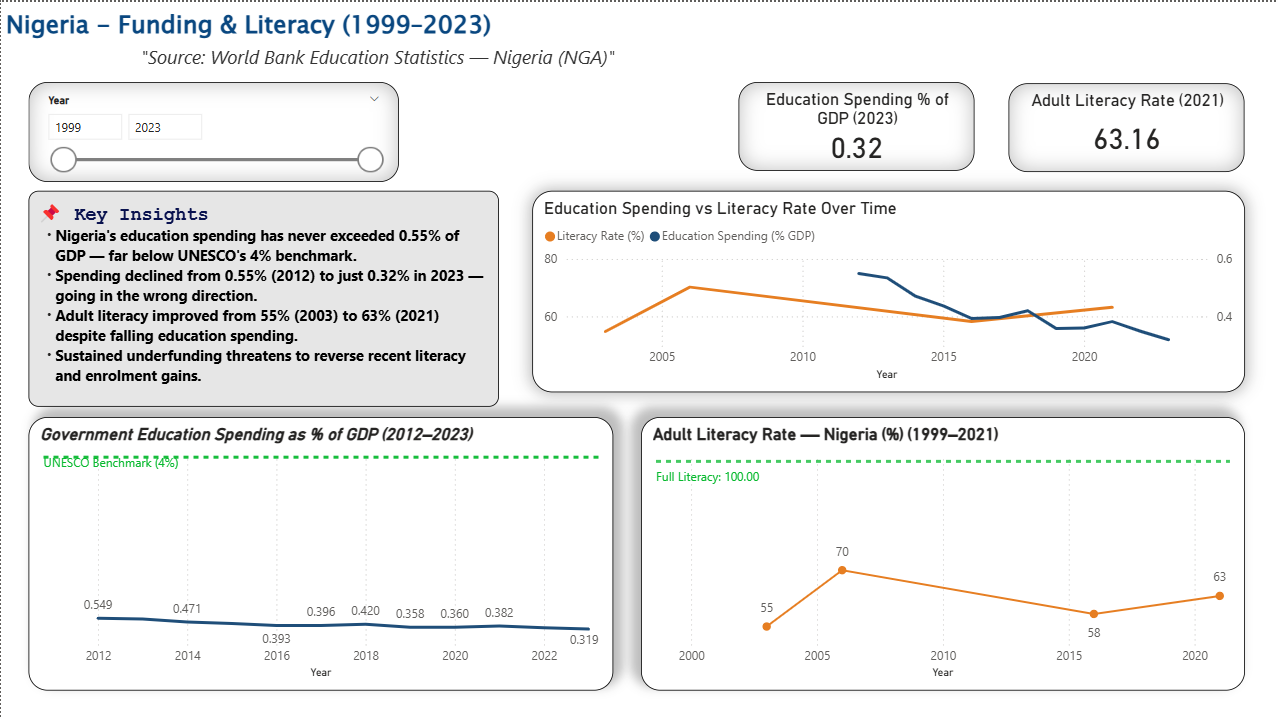

The page's visual inventory and layout, read from the dashboard file:
{"tool":"powerbi","page":{"name":"Funding & Literacy","canvas":[1280,720],"ordinal":4},"visuals":[{"type":"textbox","box":[0,0,618.8,79.5],"z":0},{"type":"card","title":"Adult Literacy Rate (2021)","fields":{"Values":["PowerBI_Data.Latest Literacy Rate"]},"box":[1007.5,81.2,236.2,88.8],"z":1000},{"type":"card","title":"Education Spending % of GDP (2023)","fields":{"Values":["PowerBI_Data.Latest Education Spending"]},"box":[737.5,80,236.2,88.8],"z":2000},{"type":"lineChart","title":"Government Education Spending as % of GDP (2012–2023)","fields":{"Category":["PowerBI_Data.Year"],"Y":["Sum(PowerBI_Data.Education Spending (% GDP))"]},"box":[27.5,415,585,273.8],"z":3000},{"type":"lineChart","title":"Adult Literacy Rate — Nigeria (%) (1999–2021)","fields":{"Category":["PowerBI_Data.Year"],"Y":["Sum(PowerBI_Data.Literacy Rate (%))"]},"box":[640,415,603.8,273.8],"z":4000},{"type":"lineChart","title":"Education Spending vs Literacy Rate Over Time","fields":{"Category":["PowerBI_Data.Year"],"Y":["Sum(PowerBI_Data.Literacy Rate (%))"],"Y2":["Sum(PowerBI_Data.Education Spending (% GDP))"]},"box":[531.2,188.8,712.5,201.2],"z":5000},{"type":"slicer","fields":{"Values":["PowerBI_Data.Year"]},"box":[27.5,80,370,100],"z":6000},{"type":"textbox","box":[27.5,188.8,470,216.2],"z":6001}]}

Visuals, with their boxes in screenshot pixels (x1, y1, x2, y2), scaled from the page's 1280x720 canvas onto the 1276x719 screenshot:
textbox: [0,0,617,79]
"Adult Literacy Rate (2021)" card: [1004,81,1240,170]
"Education Spending % of GDP (2023)" card: [735,80,971,169]
"Government Education Spending as % of GDP (2012–2023)" lineChart: [27,414,611,688]
"Adult Literacy Rate — Nigeria (%) (1999–2021)" lineChart: [638,414,1240,688]
"Education Spending vs Literacy Rate Over Time" lineChart: [530,189,1240,389]
slicer - PowerBI_Data.Year: [27,80,396,180]
textbox: [27,189,496,404]
